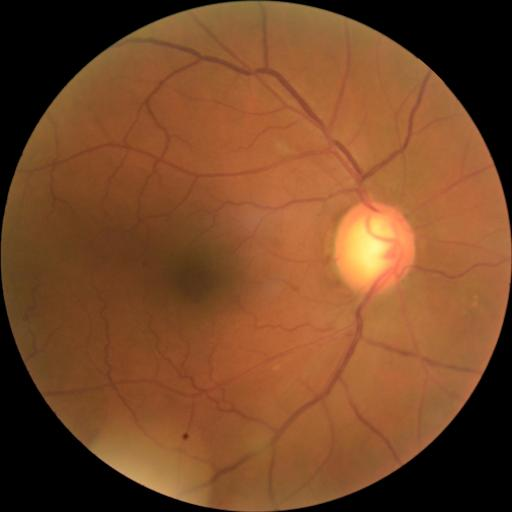Optic Cup: (347, 216, 396, 278)
Optic Disc: (334, 201, 415, 294)
